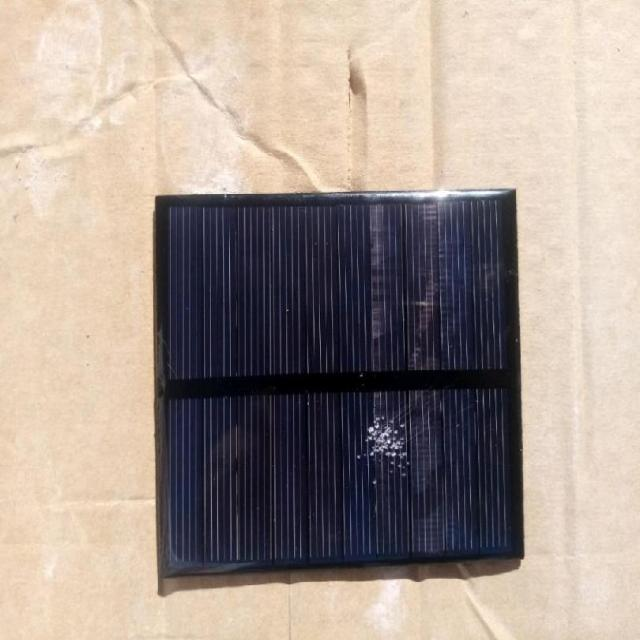faulty: (156, 196, 520, 569)
